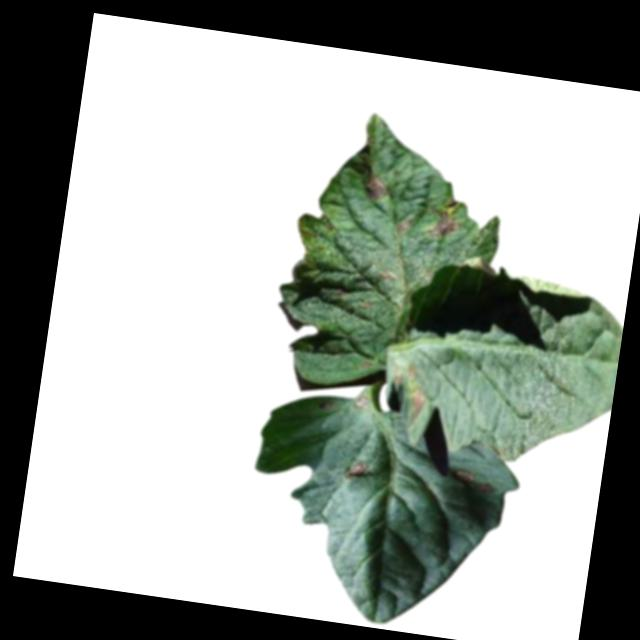Early_blight: (387, 361, 433, 421), (429, 205, 466, 243), (363, 173, 390, 201), (341, 460, 371, 484), (352, 393, 370, 412), (398, 218, 411, 235)
